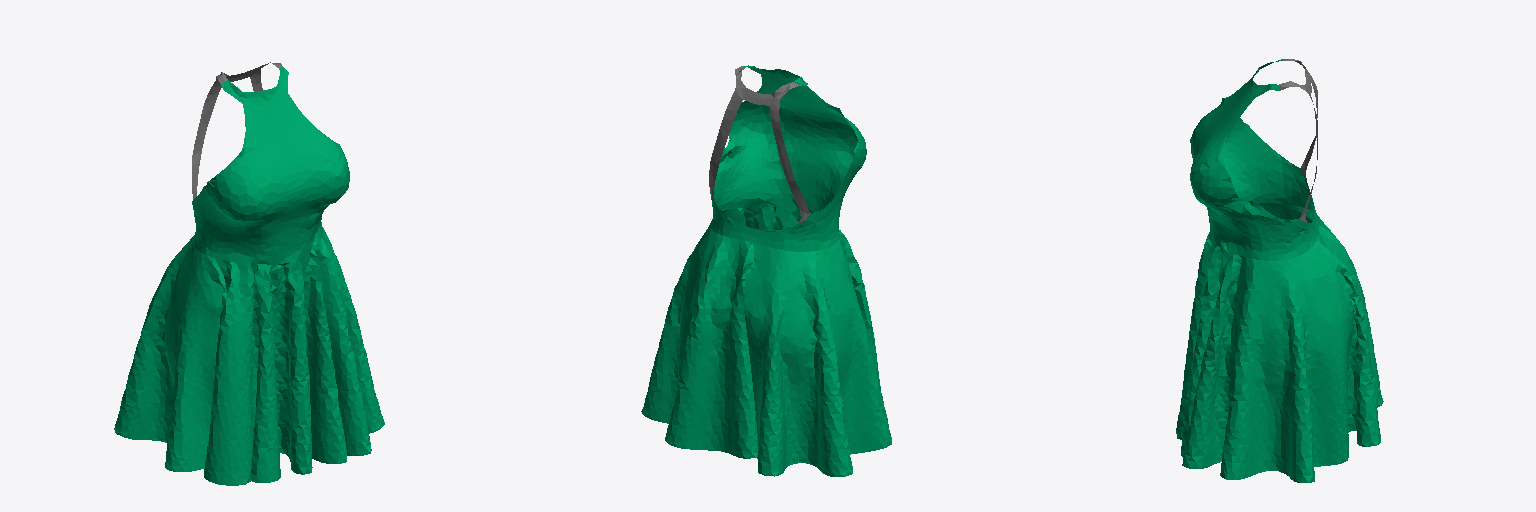
The picture shows the model from 3 angles: view 1: azimuth 30°, elevation 25°; view 2: azimuth 150°, elevation 25°; view 3: azimuth 270°, elevation 25°; orthographic projection.
Parts seen in each view (by area): view 1: large_greenDress:polySurface1; view 2: large_greenDress:polySurface1; view 3: large_greenDress:polySurface1.
Boxes of the visible parts, x1,y1,x2,y2 form: large_greenDress:polySurface1: [114, 62, 384, 485]; large_greenDress:polySurface1: [641, 65, 891, 476]; large_greenDress:polySurface1: [1176, 59, 1383, 482].
Bounding box in the file's own units: 544 × 854 × 435.
7 materials, 1 textured.